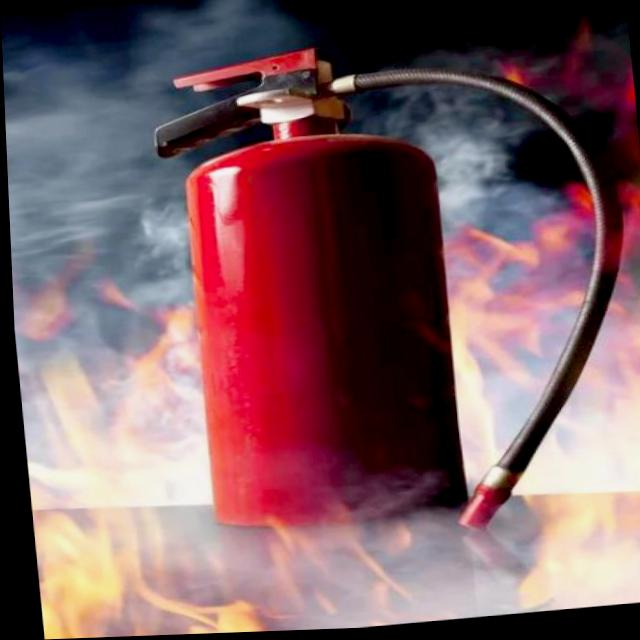FireExtinguisher: (134, 20, 640, 568)
